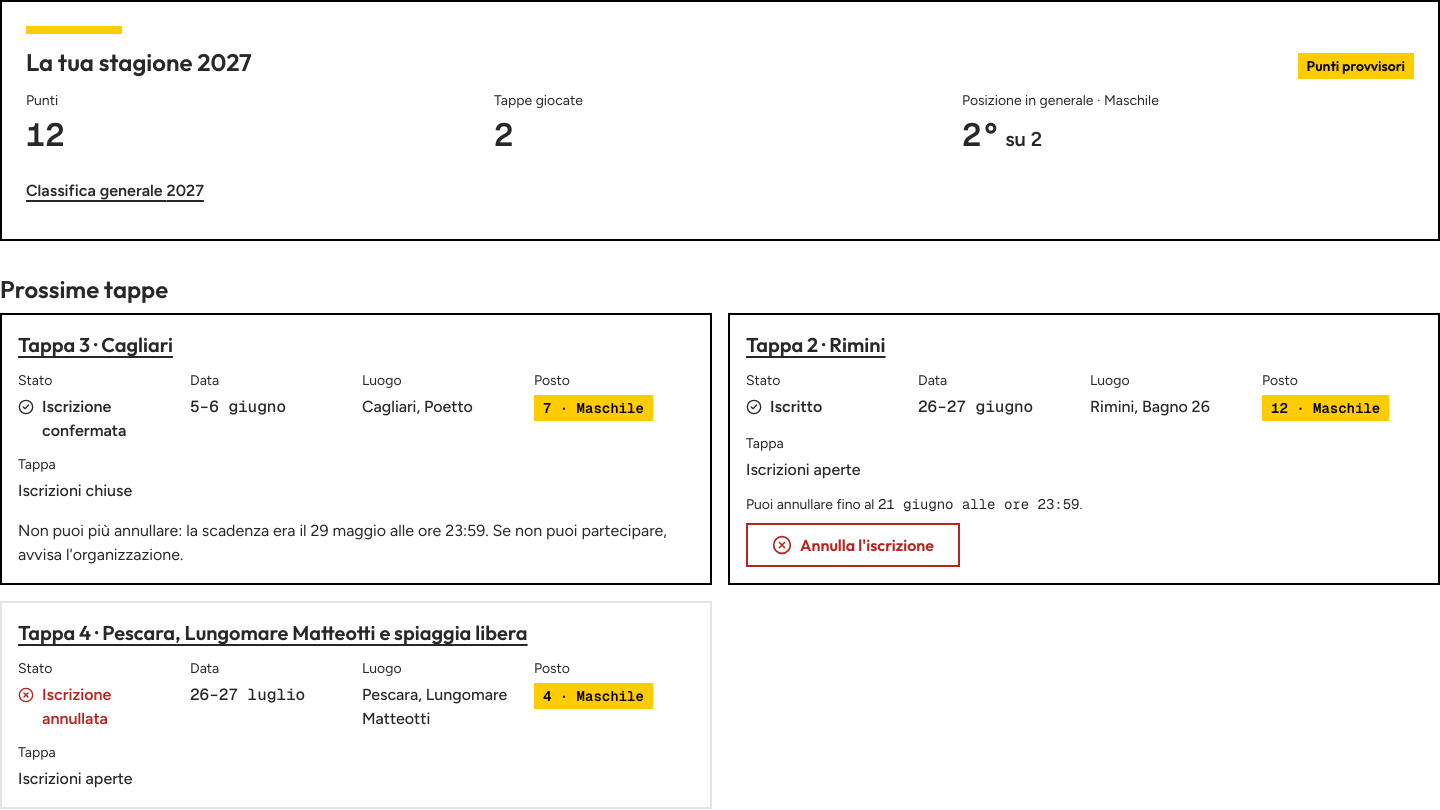
MieIscrizioni › un rifiuto del server resta nel dialog
What coordinates should you click on to do the following:
click the button "Annulla l'iscrizione"
I would click on:
 (853, 545)
Its box is top-left (746, 523), bottom-right (960, 567).
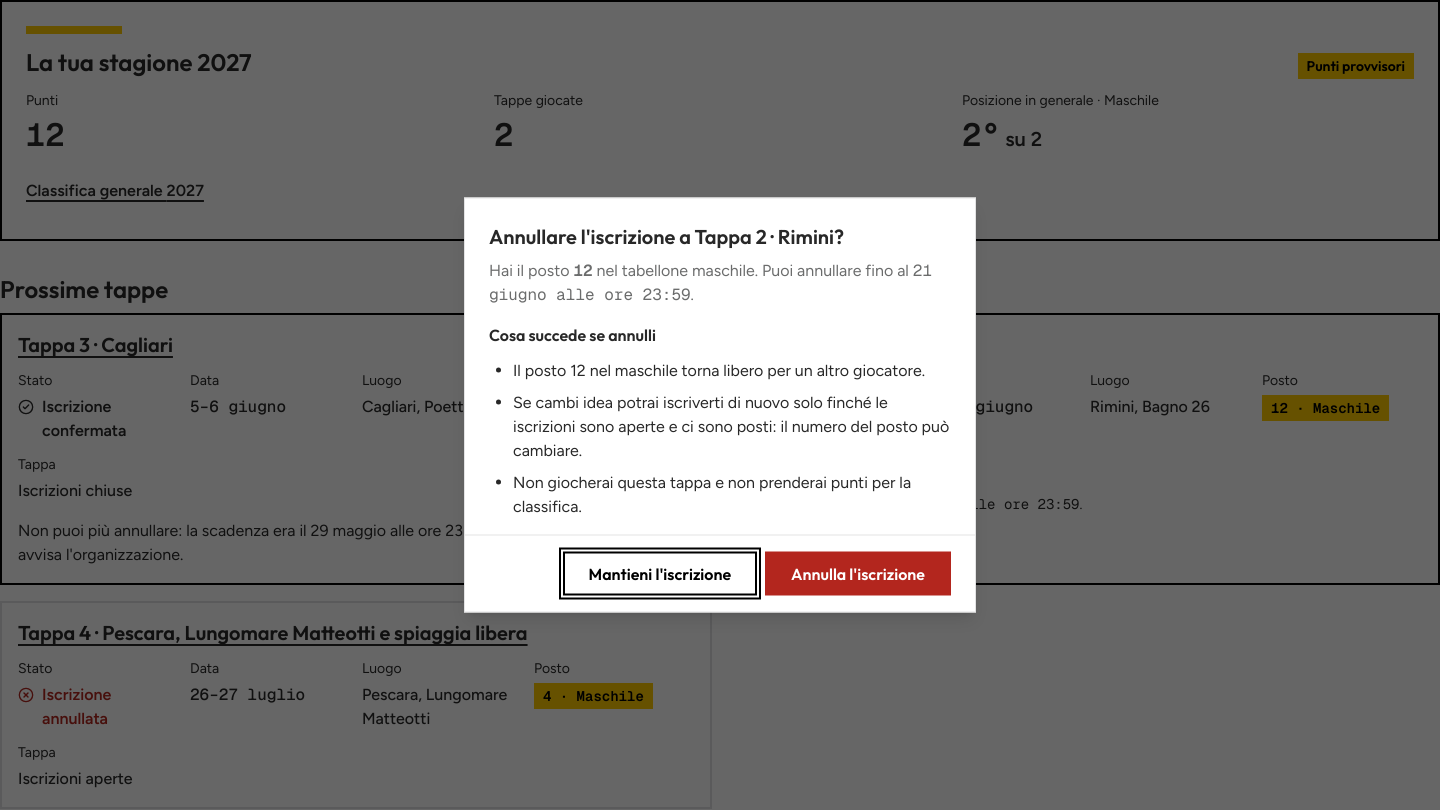
What coordinates should you click on to do the following:
click the button "Annulla l'iscrizione"
I would click on:
 (858, 574)
Its box is top-left (765, 552), bottom-right (951, 596).
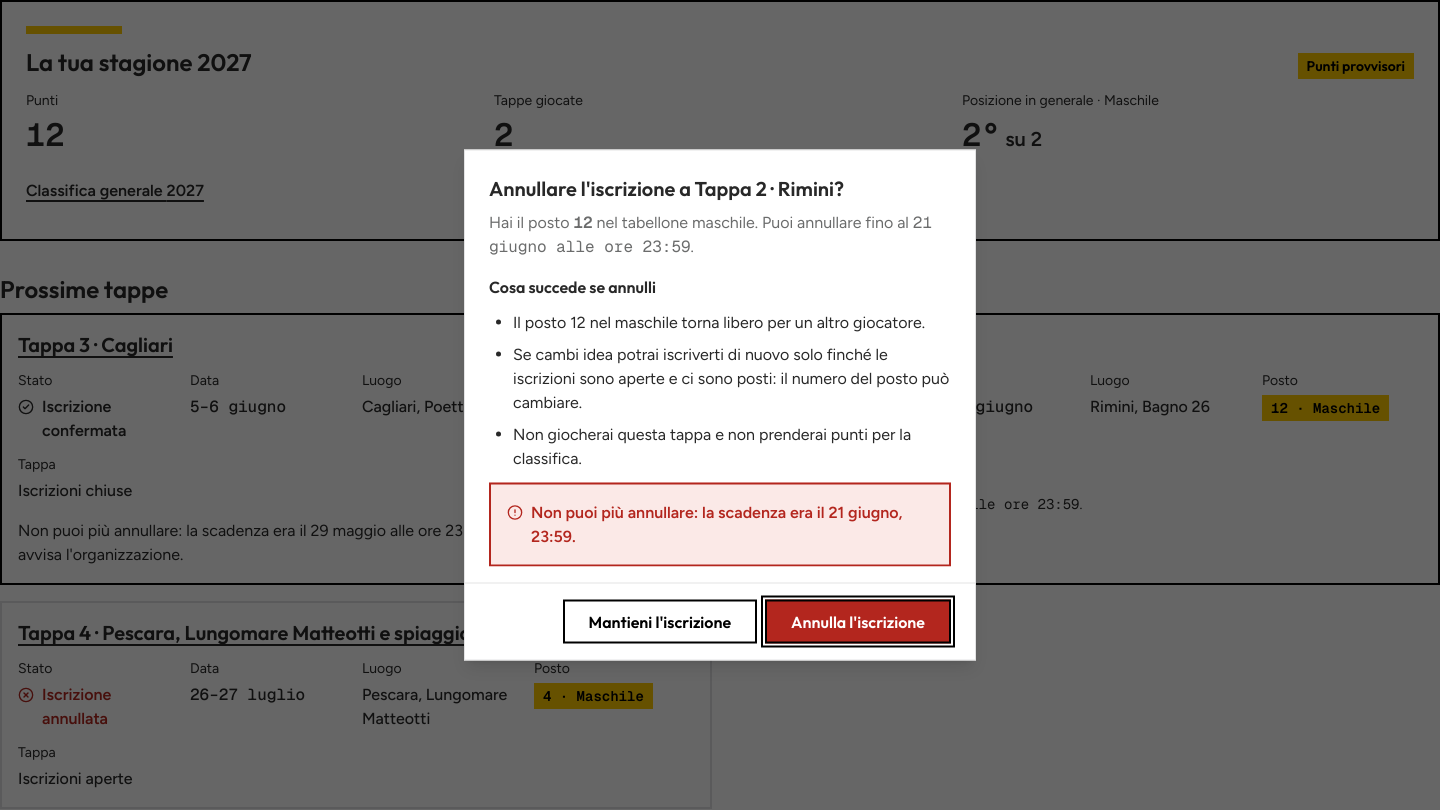
Check: the message shows "scadenza era il 21 giugno", box top-left (531, 502), bottom-right (902, 546)
